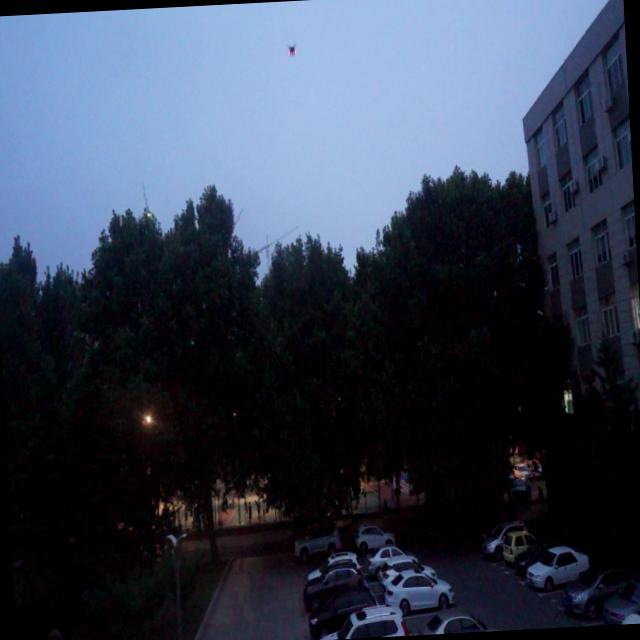drone: (285, 40, 301, 60)
